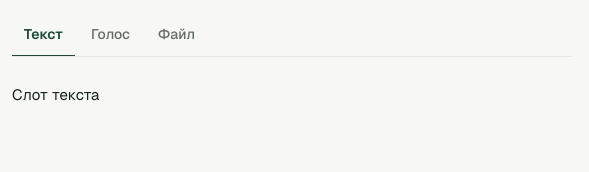
Scenario: Composer › переключение вкладки меняет показанный слот
Click the tab "Голос".
click(111, 34)  # box [79, 12, 142, 56]
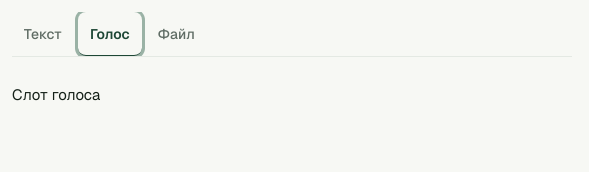
Now the panel reads "Слот голоса", box [12, 85, 100, 104]
